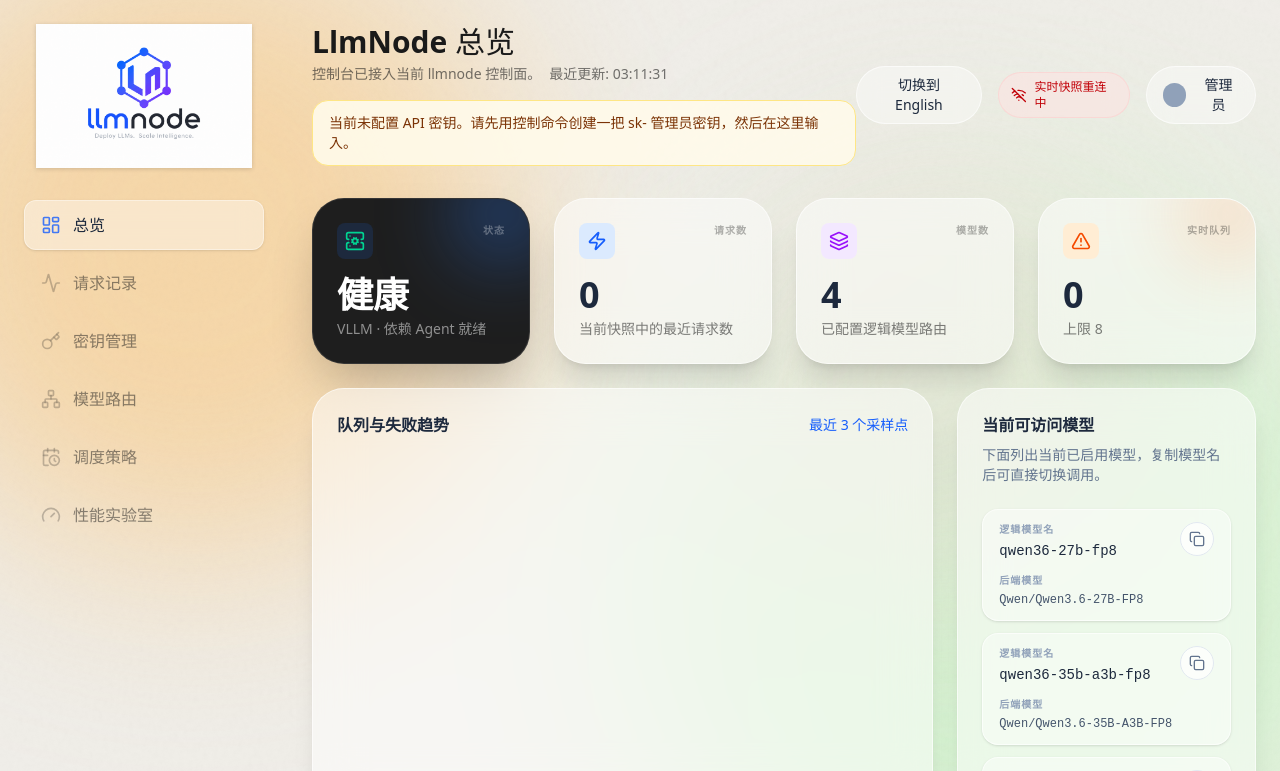
Test: Console views › renders usage trend controls and records table headings
Check: the text "LlmNode" is shown, box [312,21,447,62]
Click the button "请求记录".
click(144, 283)  # box [24,258,264,308]
(page scrolled)
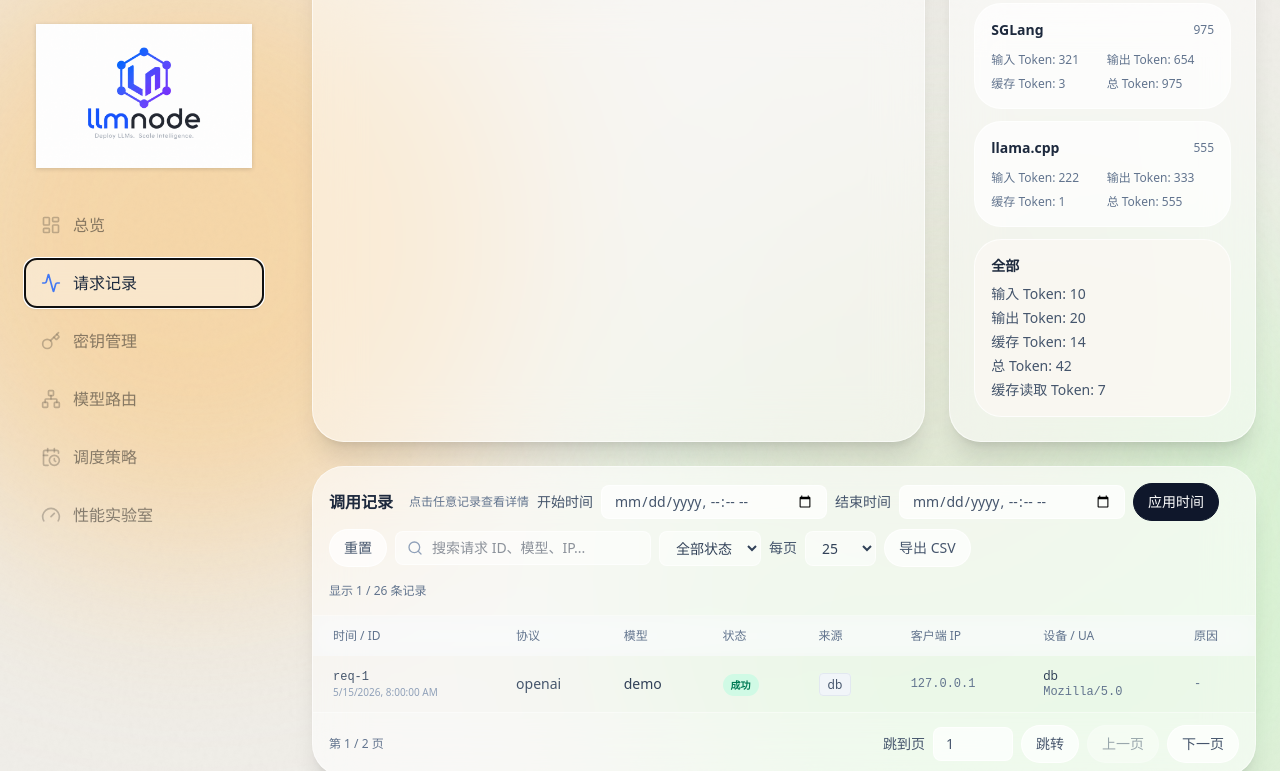
Check: the text "调用记录" is shown, box [329,490,393,514]
